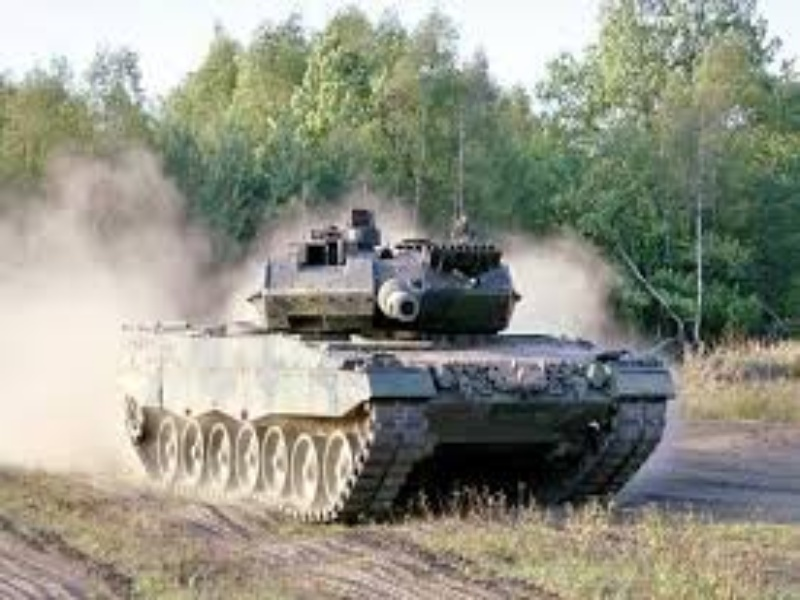tank: (114, 205, 680, 531)
